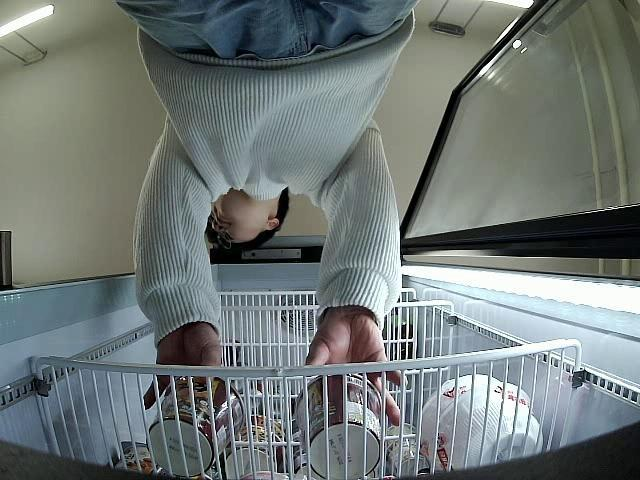06_nuguri_S: (146, 372, 245, 476), (297, 372, 386, 479)
